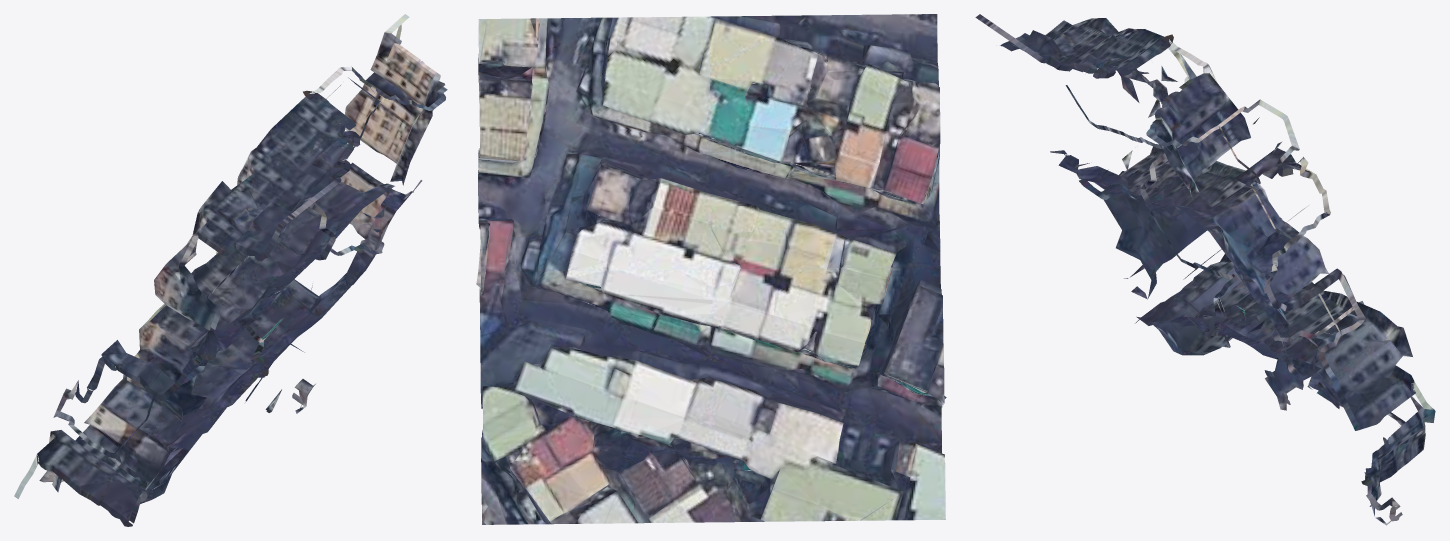
The picture shows the model from 3 angles, left to right: view 1: azimuth 30°, elevation 25°; view 2: azimuth 150°, elevation 25°; view 3: azimuth 270°, elevation 25°; orthographic projection. The views are drawn at different scales.
Bounding box in the file's own units: 80.08 × 75.92 × 72.09.
Materials: 1 (1 with a texture image).
